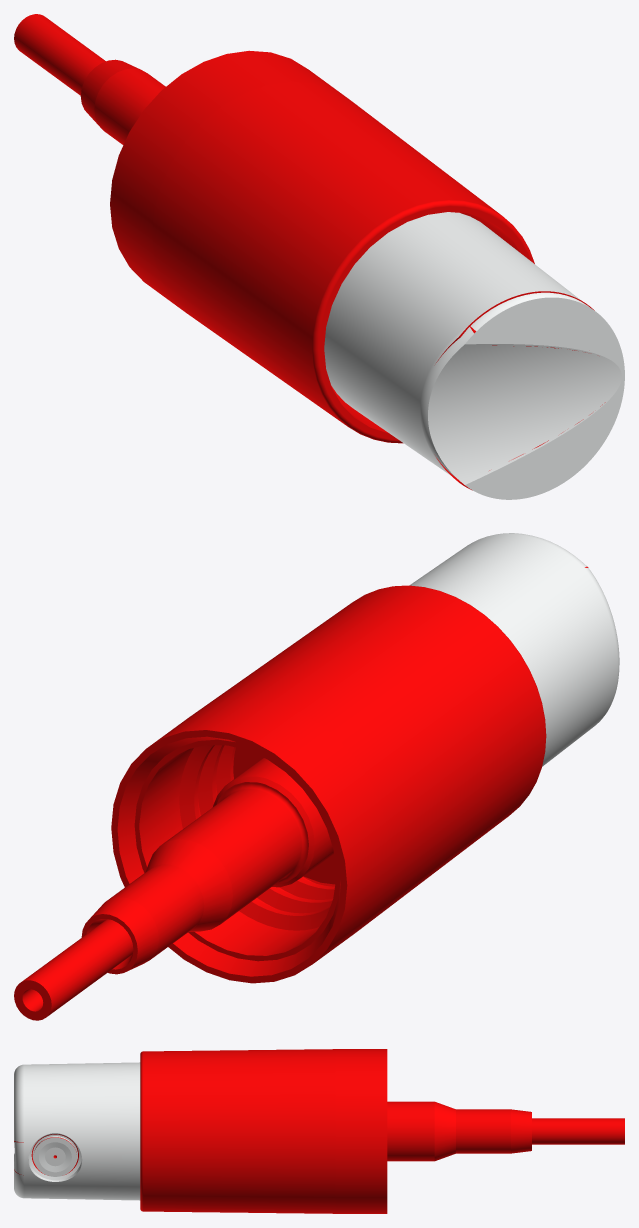
The model's file is empdx5009a.glb.
The picture shows the model from 3 angles, top to bottom: view 1: azimuth 30°, elevation 25°; view 2: azimuth 150°, elevation 25°; view 3: azimuth 270°, elevation 25°; orthographic projection. The views are drawn at different scales.
Visible parts, largest first — view 1: empdx5009a.SLDPRT; view 2: empdx5009a.SLDPRT; view 3: empdx5009a.SLDPRT.
Part boxes in pixels (x1,y1,x2,y2): empdx5009a.SLDPRT: [14, 14, 624, 499]; empdx5009a.SLDPRT: [14, 533, 619, 1020]; empdx5009a.SLDPRT: [14, 1049, 624, 1213].
Bounding box in the file's own units: 0.0159 × 0.0159 × 0.0591.
